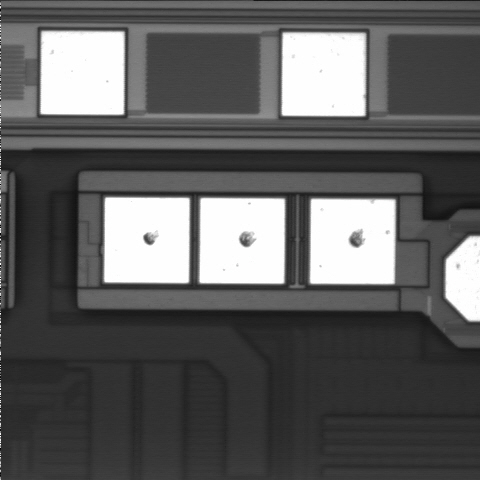pad: (200, 198, 285, 284), (104, 198, 189, 283), (310, 199, 395, 284), (41, 31, 124, 115), (282, 33, 365, 116)
